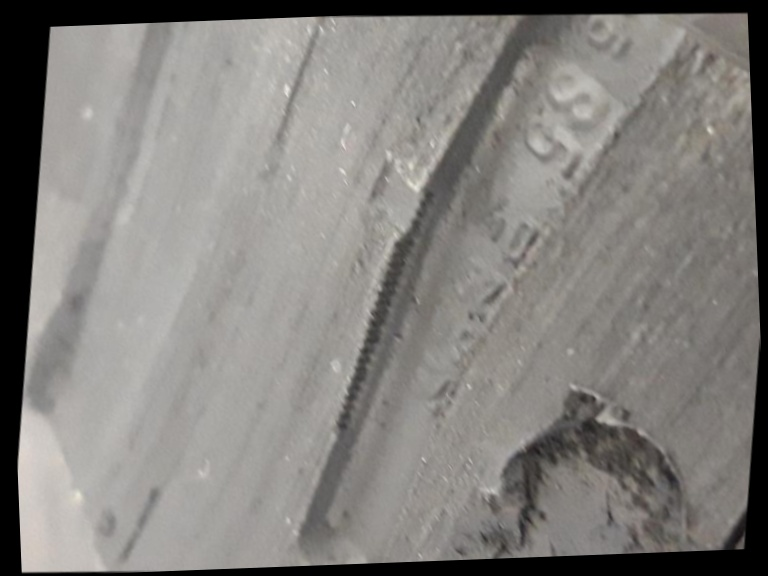temoin:0: (343, 143, 455, 260)
